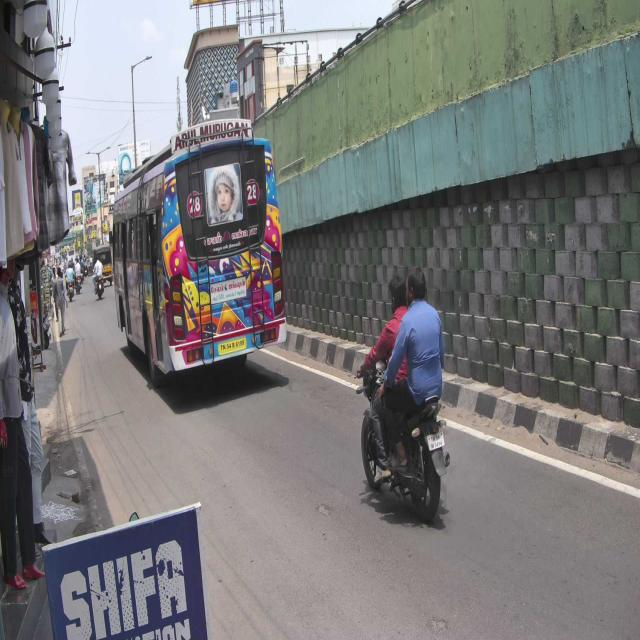double_rider: (356, 262, 452, 525)
